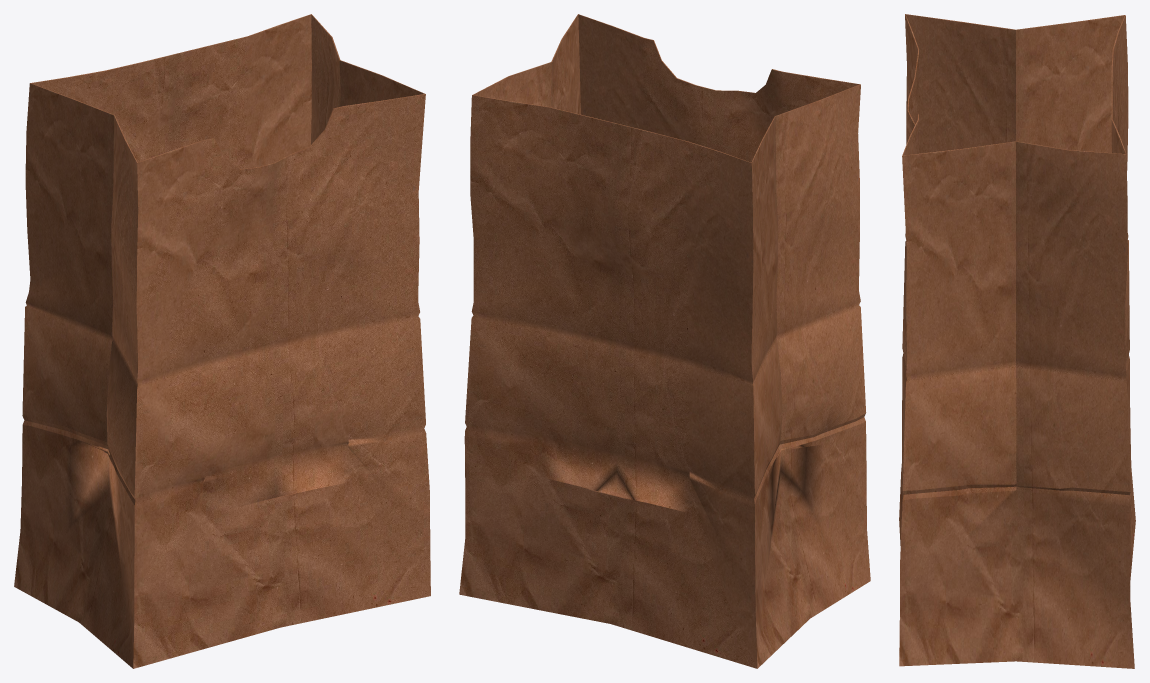
Rendered from BolsaPapel.fbx.
3 views of the same model, side by side, from view 1: azimuth 30°, elevation 25°; view 2: azimuth 150°, elevation 25°; view 3: azimuth 270°, elevation 25° (orthographic). The views are drawn at different scales.
Visible parts, largest first — view 1: Paper Bag; view 2: Paper Bag; view 3: Paper Bag.
Boxes of the visible parts, x1=… form: Paper Bag: x1=14, y1=14, x2=430, y2=668; Paper Bag: x1=459, y1=14, x2=870, y2=668; Paper Bag: x1=899, y1=14, x2=1135, y2=668.
Size of the model in its own units: 88.23 by 141 by 59.18.
1 material, 1 textured.
